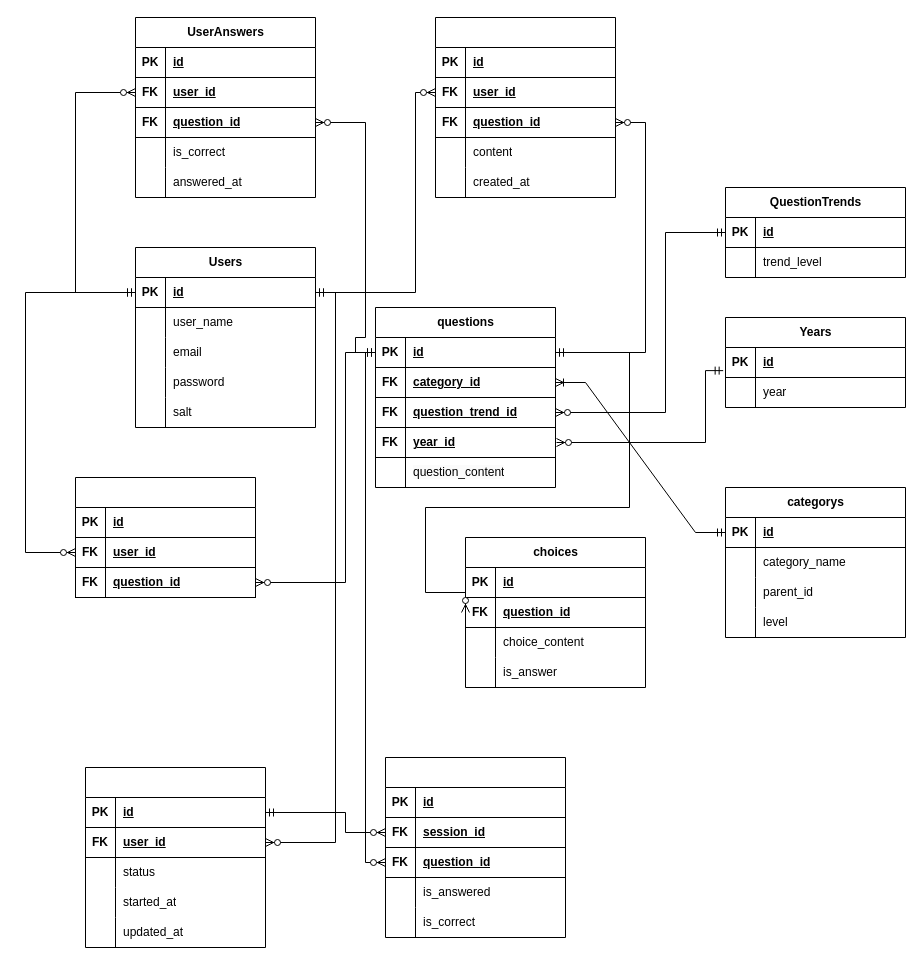
The diagram is 923 pixels wide and 965 high, and some of its shapes have lost their labels. Each missing label, with the box of its shape:
Comments: (434, 16, 616, 198)
SavedQuestions: (74, 476, 256, 598)
SessionQuestions: (384, 756, 566, 938)
Sessions: (84, 766, 266, 948)
